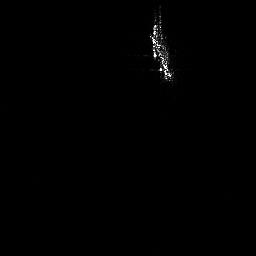ship: (149, 13, 175, 82)
